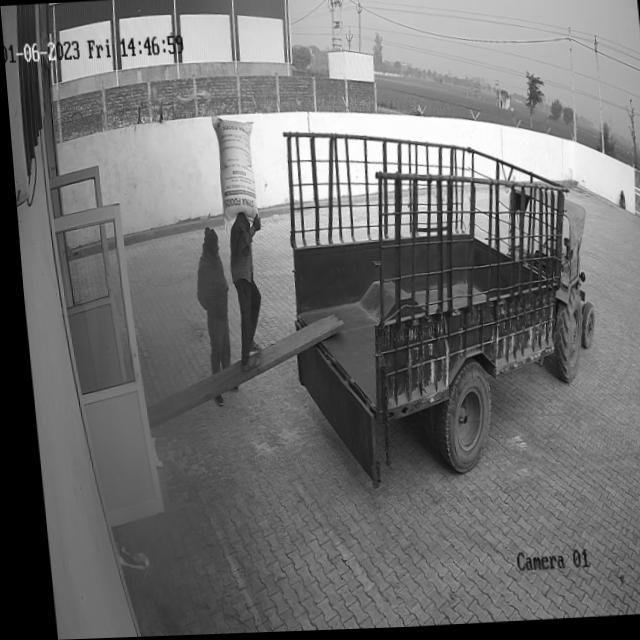sack: (209, 113, 257, 224)
